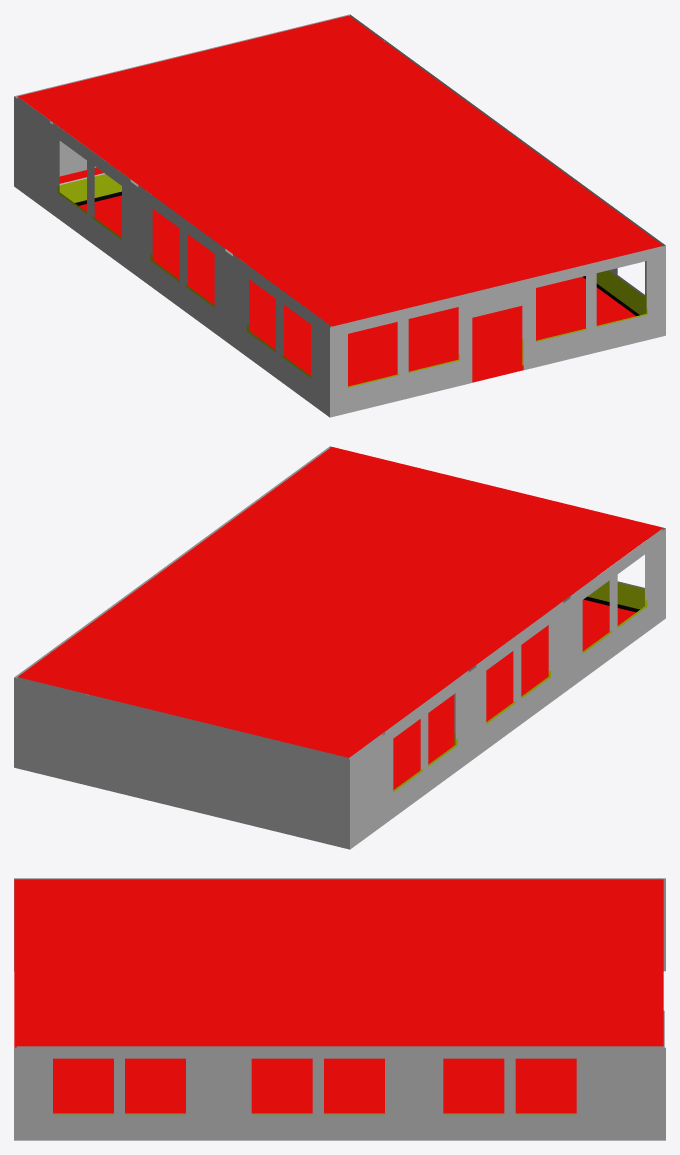
The model's file is canteen.fbx.
3 views of the same model, one above another, from view 1: azimuth 30°, elevation 25°; view 2: azimuth 150°, elevation 25°; view 3: azimuth 270°, elevation 25° (orthographic). The views are drawn at different scales.
Visible parts, largest first — view 1: ceil, wall_7_41, room_10_47_1; view 2: ceil, wall_7_41, room_10_47_1; view 3: ceil, wall_7_41, room_10_47_1.
Part boxes in pixels (box(x1,y1,x2,y2)): ceil: box(18, 15, 662, 326); wall_7_41: box(14, 14, 665, 417); room_10_47_1: box(59, 164, 635, 386); ceil: box(18, 447, 662, 757); wall_7_41: box(14, 446, 665, 849); room_10_47_1: box(351, 599, 635, 789); ceil: box(14, 879, 663, 1046); wall_7_41: box(14, 878, 665, 1140); room_10_47_1: box(14, 1046, 576, 1113).
Size of the model in its own units: 1108 by 284 by 1804.
